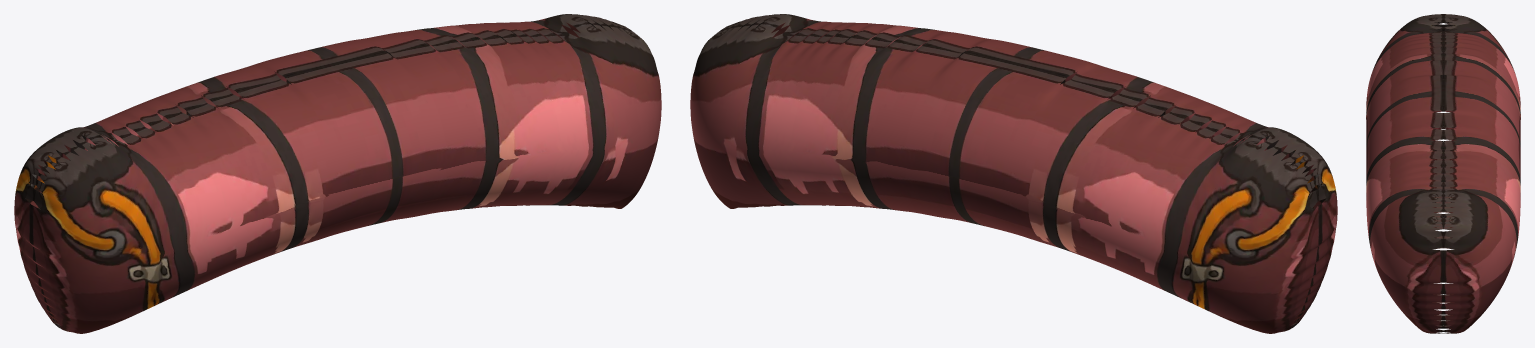
The model's file is pit_duct.glb.
The picture shows the model from 3 angles, left to right: view 1: azimuth 30°, elevation 25°; view 2: azimuth 150°, elevation 25°; view 3: azimuth 270°, elevation 25°; orthographic projection. The views are drawn at different scales.
Visible parts, largest first — view 1: pit_duct; view 2: pit_duct; view 3: pit_duct.
Part boxes in pixels (x1=…): pit_duct: x1=14, y1=14, x2=661, y2=333; pit_duct: x1=690, y1=14, x2=1337, y2=333; pit_duct: x1=1366, y1=14, x2=1520, y2=333.
Size of the model in its own units: 0.989 by 0.3125 by 0.3016.
1 material, 1 textured.
